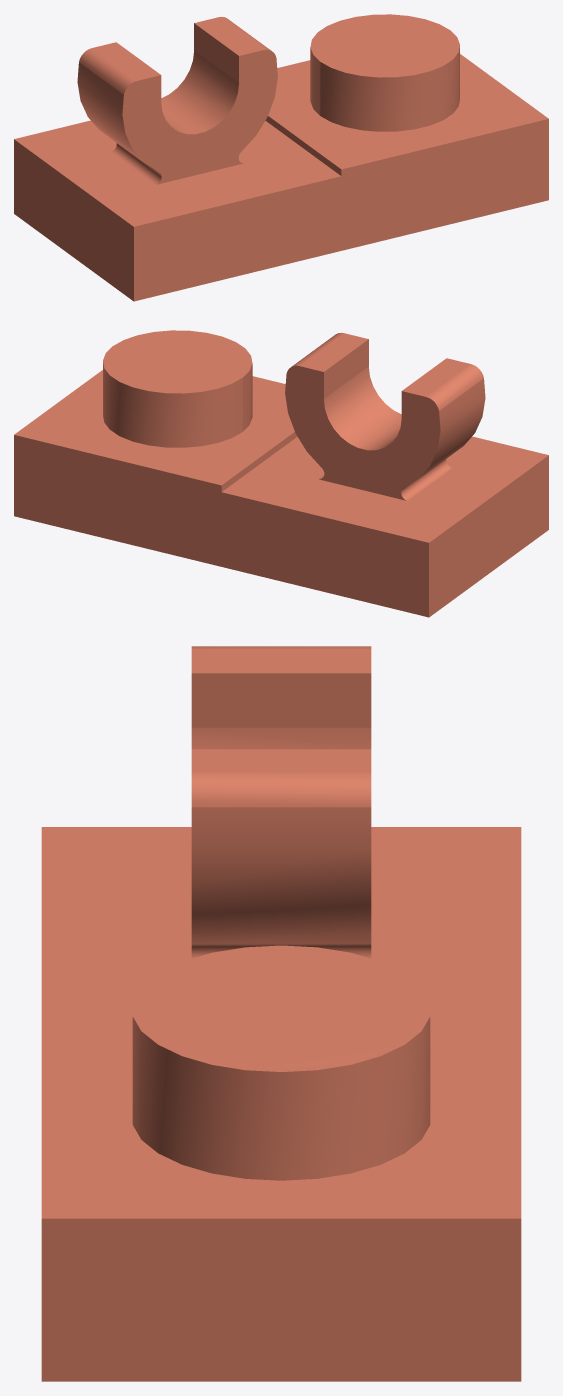
3 views of the same model, one above another, from view 1: azimuth 30°, elevation 25°; view 2: azimuth 150°, elevation 25°; view 3: azimuth 270°, elevation 25° (orthographic). The views are drawn at different scales.
Visible parts, largest first — view 1: SOLID; view 2: SOLID; view 3: SOLID.
Boxes of the visible parts, x1,y1,x2,y2 form: SOLID: (14, 14, 548, 301); SOLID: (14, 330, 548, 617); SOLID: (41, 646, 521, 1381).
Bounding box in the file's own units: 1.6 × 0.675 × 0.8.
